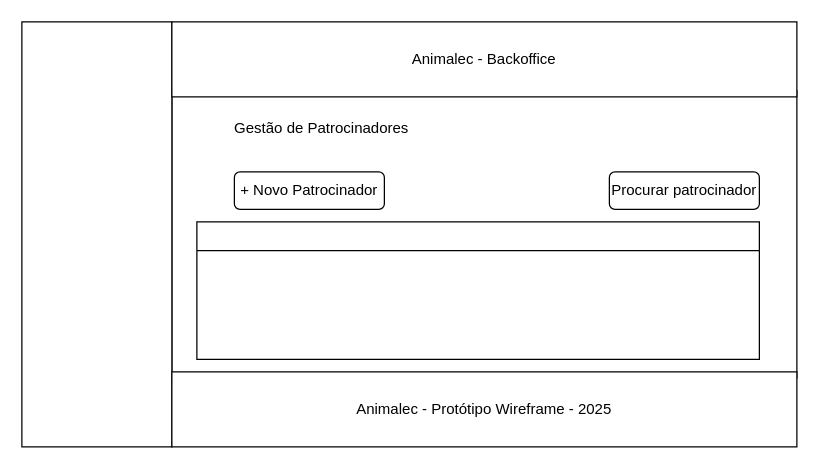
Some shapes in this 819 by 469 pixel diagram are drawn without their labels. Each missing label, with the box of its shape:
Dashboard Animais Utilizadores Quizzes Patrocinadores Especialistas: (21, 21, 172, 447)
Nome | Tipo de Patrocínio | Email | Website | Ações: (196, 221, 759, 359)
